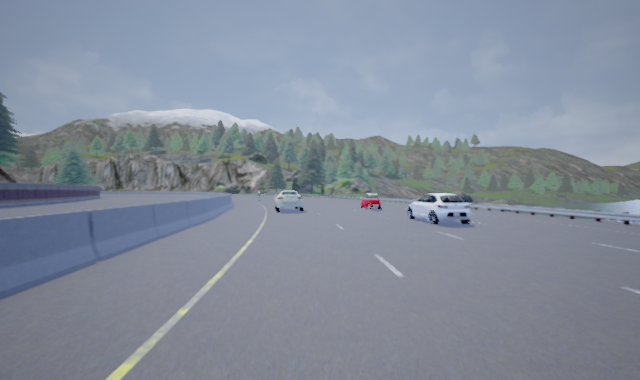vehicle: (405, 192, 476, 225), (273, 189, 305, 212), (359, 192, 383, 211)
